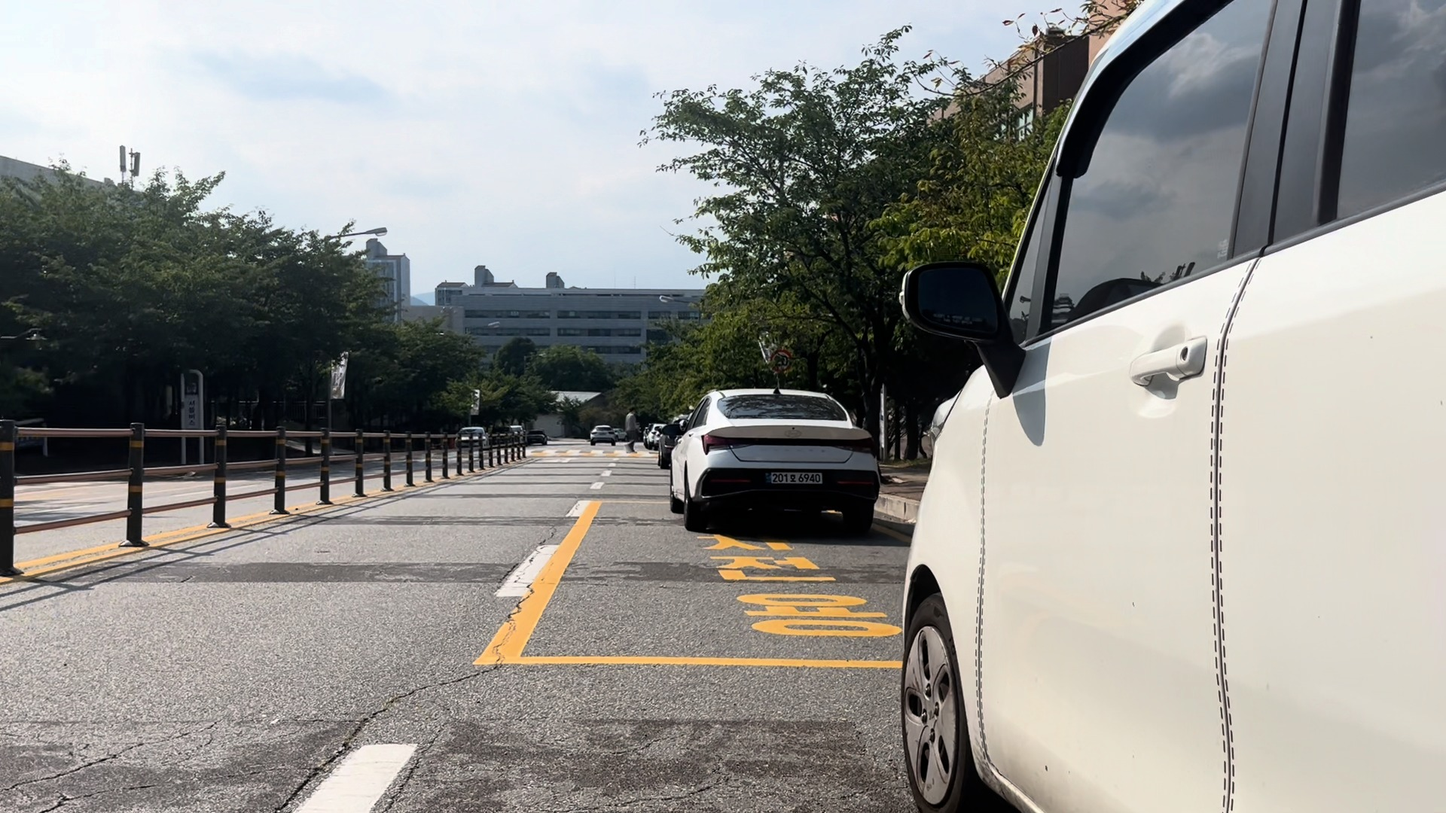door_handle: (1129, 336, 1208, 386)
side_mirror: (900, 263, 1023, 397)
tail_light: (700, 434, 749, 454), (832, 437, 877, 455)
